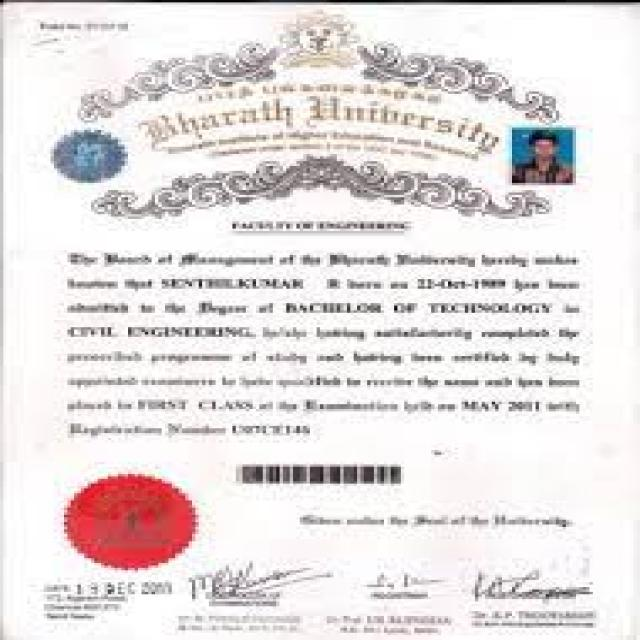degree: (279, 297, 559, 319)
signature: (180, 560, 329, 602), (470, 568, 604, 608), (363, 569, 453, 603)
stamp: (58, 473, 208, 575)
